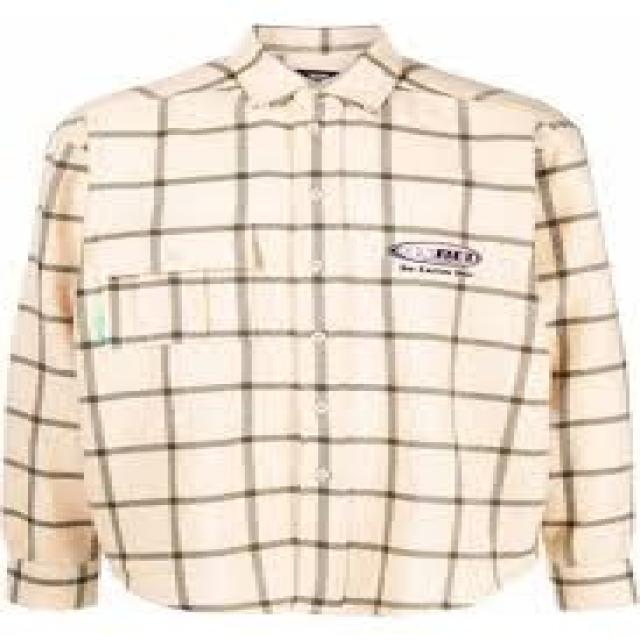plaid: (18, 20, 631, 604)
